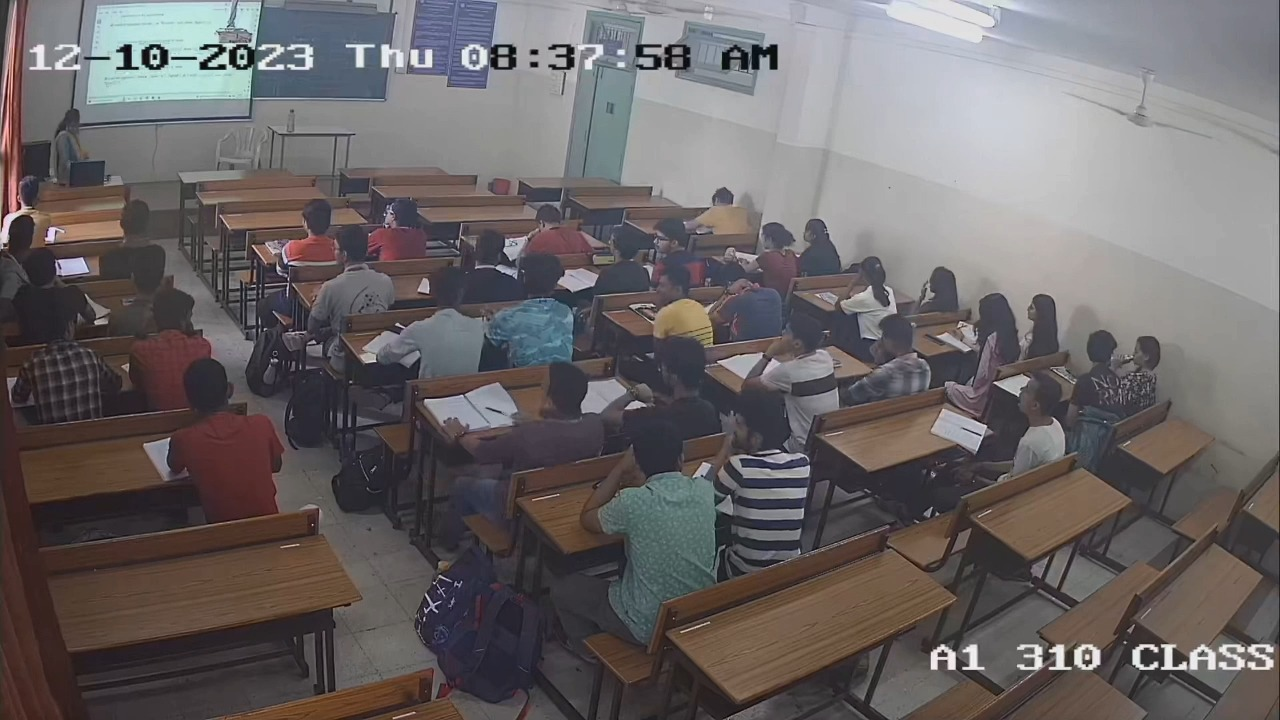cell-phones: (923, 331, 945, 347), (591, 253, 615, 266), (386, 325, 404, 336)
person: (371, 265, 483, 380), (965, 293, 1021, 399), (594, 225, 651, 293)
